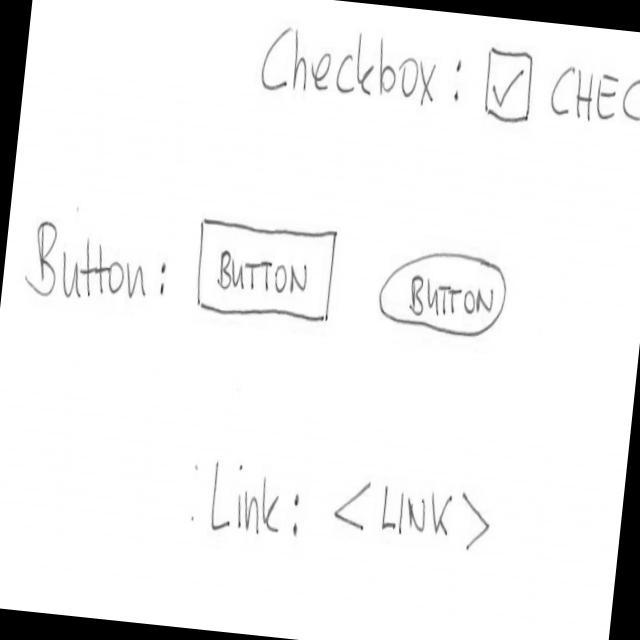button: (189, 212, 342, 333), (375, 238, 513, 348)
checkbox: (478, 41, 640, 145)
link: (329, 471, 497, 560)
